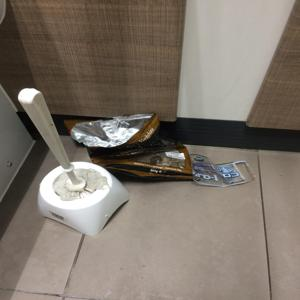plastic: (72, 116, 197, 182), (189, 152, 264, 188)
